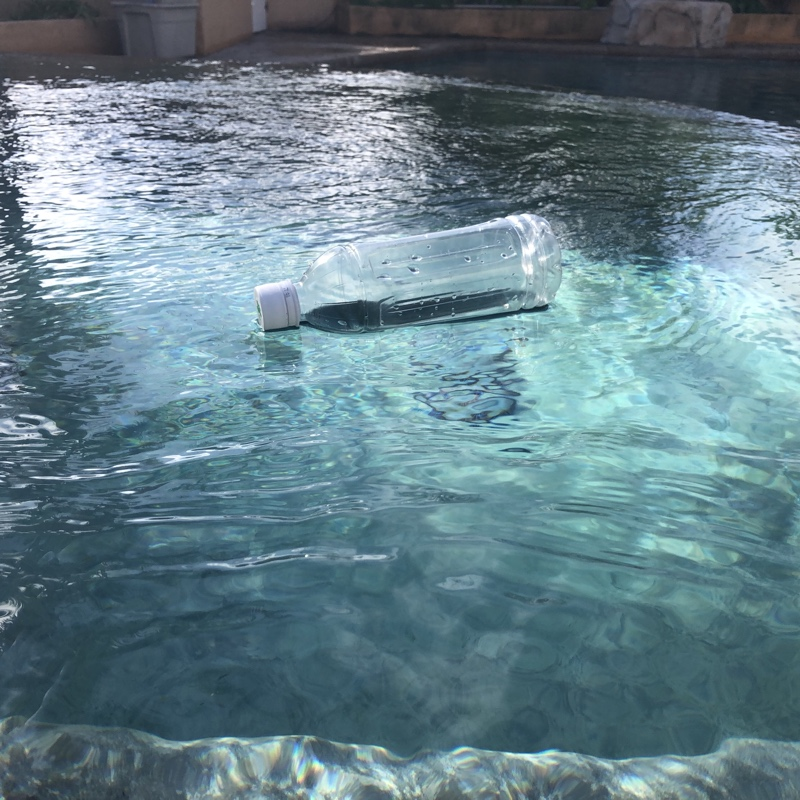Plastic Bottle: (250, 210, 563, 335)
